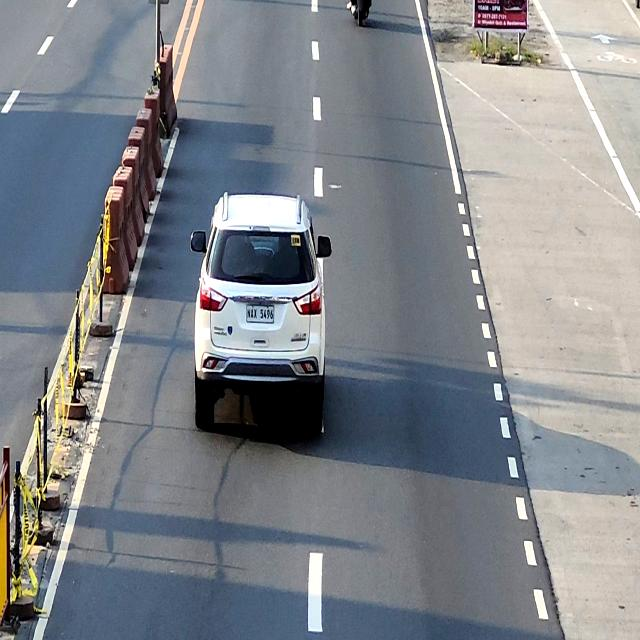Car: (190, 194, 332, 436)
License-Plate: (246, 304, 274, 324)
